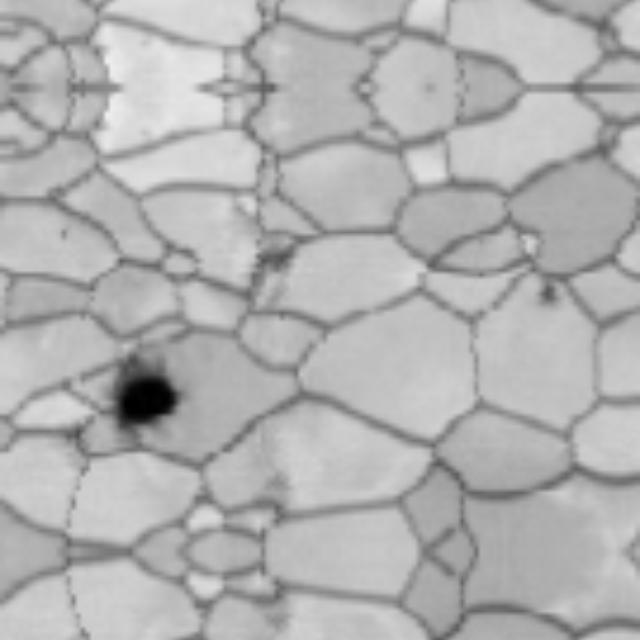good_void: (106, 365, 195, 429), (248, 459, 303, 507), (248, 597, 303, 640), (252, 240, 298, 276), (44, 211, 80, 250), (532, 281, 562, 306)
